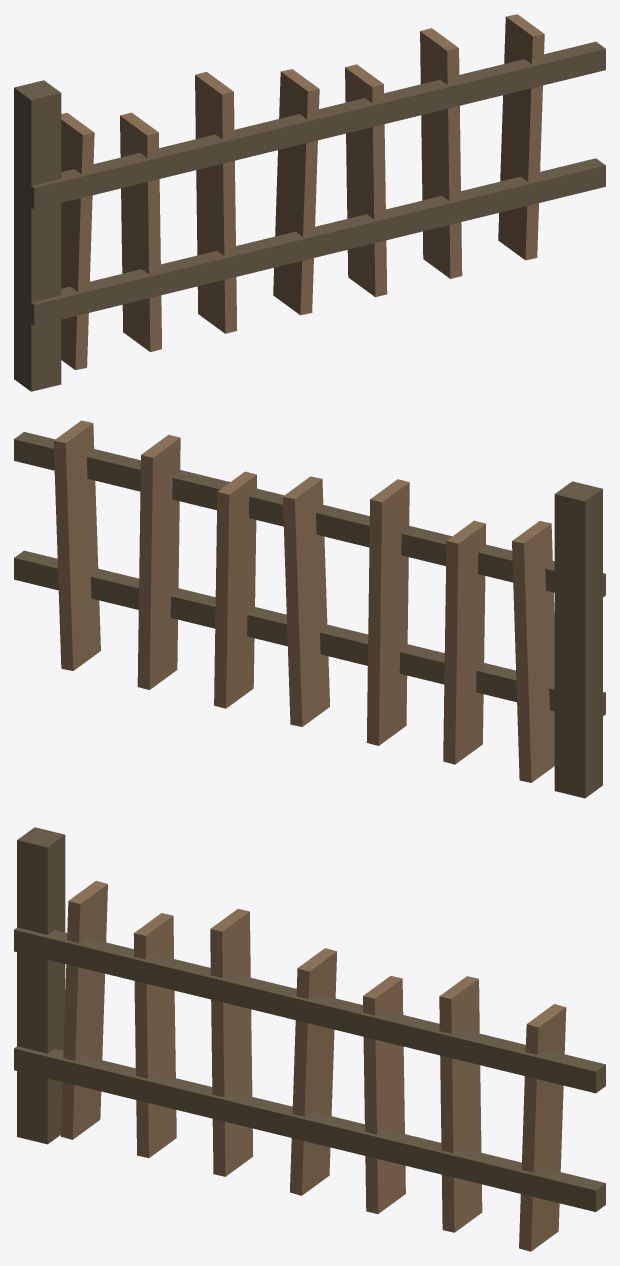
File: ua_valley_fence.obj
3 views of the same model, one above another, from view 1: azimuth 30°, elevation 25°; view 2: azimuth 150°, elevation 25°; view 3: azimuth 330°, elevation 25° (orthographic).
Visible parts, largest first — view 1: ua_valley_fence; view 2: ua_valley_fence; view 3: ua_valley_fence.
Part boxes in pixels (left/top/right/bottom): ua_valley_fence: left=14, top=14, right=605, bottom=391; ua_valley_fence: left=14, top=420, right=605, bottom=798; ua_valley_fence: left=14, top=827, right=605, bottom=1251.
Bounding box in the file's own units: 2.67 × 1.3 × 0.24.
